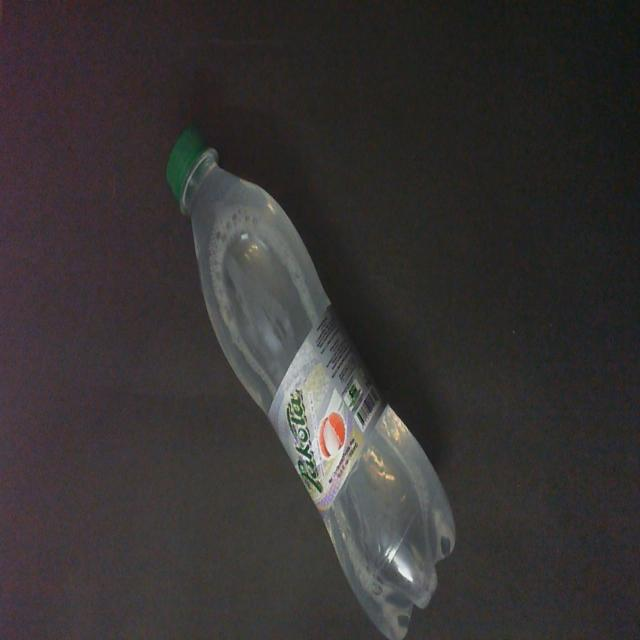non-defect: (164, 119, 458, 640)
